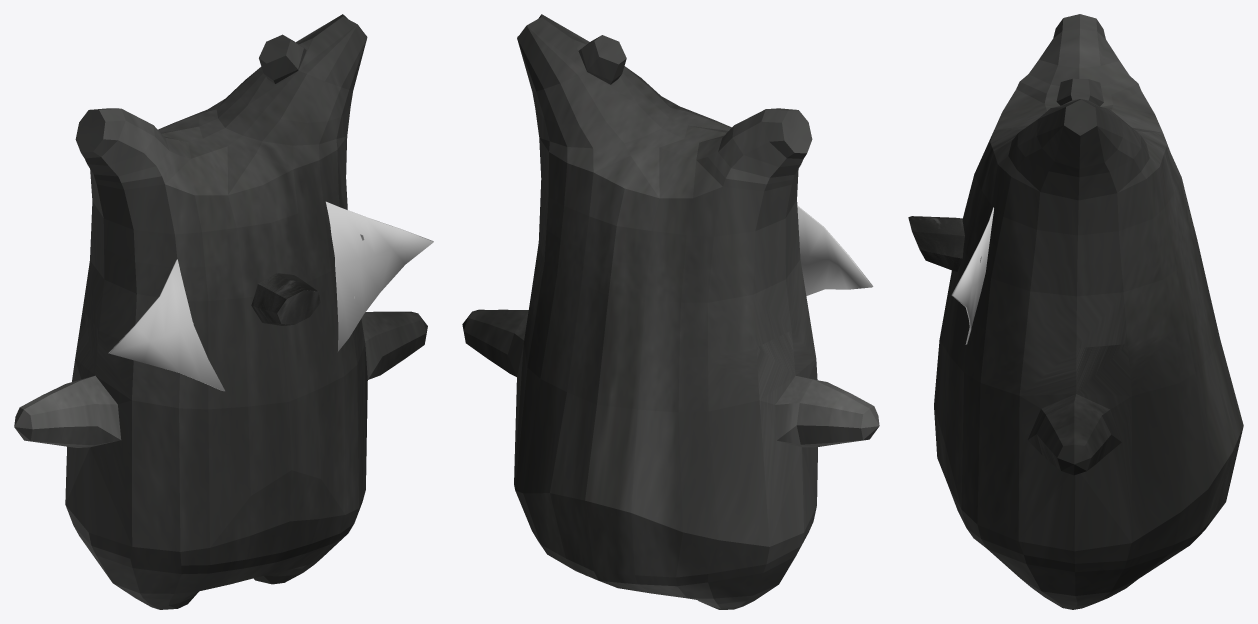
The model's file is frame_0038.obj.
The picture shows the model from 3 angles, left to right: view 1: azimuth 30°, elevation 25°; view 2: azimuth 150°, elevation 25°; view 3: azimuth 270°, elevation 25°; orthographic projection.
Parts seen in each view (by area): view 1: korok, leaf, nose; view 2: korok, leaf; view 3: korok, nose, leaf.
Boxes of the visible parts, x1,y1,x2,y2 form: korok: (14,14,427,609); leaf: (108,201,433,391); nose: (251,273,320,325); korok: (462,14,879,609); leaf: (797,205,873,295); korok: (934,14,1243,609); nose: (908,216,964,271); leaf: (951,207,993,344).
Size of the model in its own units: 1.79 by 2.25 by 1.26.
